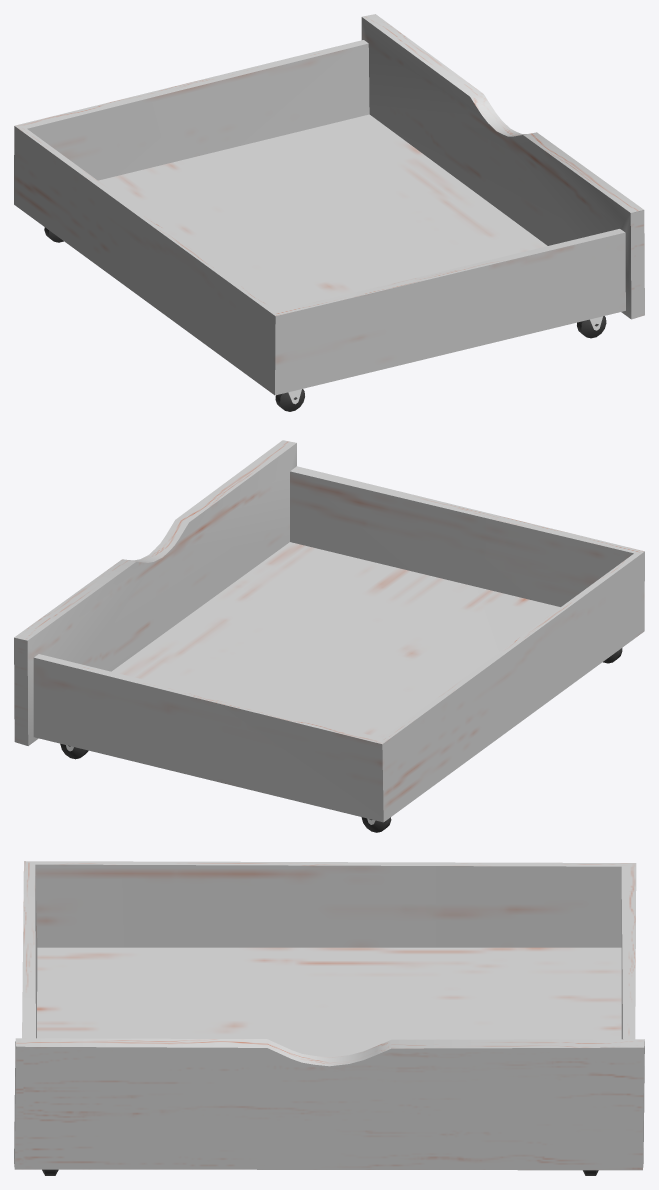
The model's file is SM_ChildBed_A1_Cab1.fbx.
The picture shows the model from 3 angles, top to bottom: view 1: azimuth 30°, elevation 25°; view 2: azimuth 150°, elevation 25°; view 3: azimuth 270°, elevation 25°; orthographic projection. The views are drawn at different scales.
Visible parts, largest first — view 1: SM_ChildBed_A1_Cab1; view 2: SM_ChildBed_A1_Cab1; view 3: SM_ChildBed_A1_Cab1.
Part boxes in pixels (x1,y1,x2,y2): SM_ChildBed_A1_Cab1: (14,14,644,411); SM_ChildBed_A1_Cab1: (14,440,644,832); SM_ChildBed_A1_Cab1: (14,861,644,1175).
Size of the model in its own units: 71.44 by 91.32 by 23.91.
Materials: 1 (1 with a texture image).
